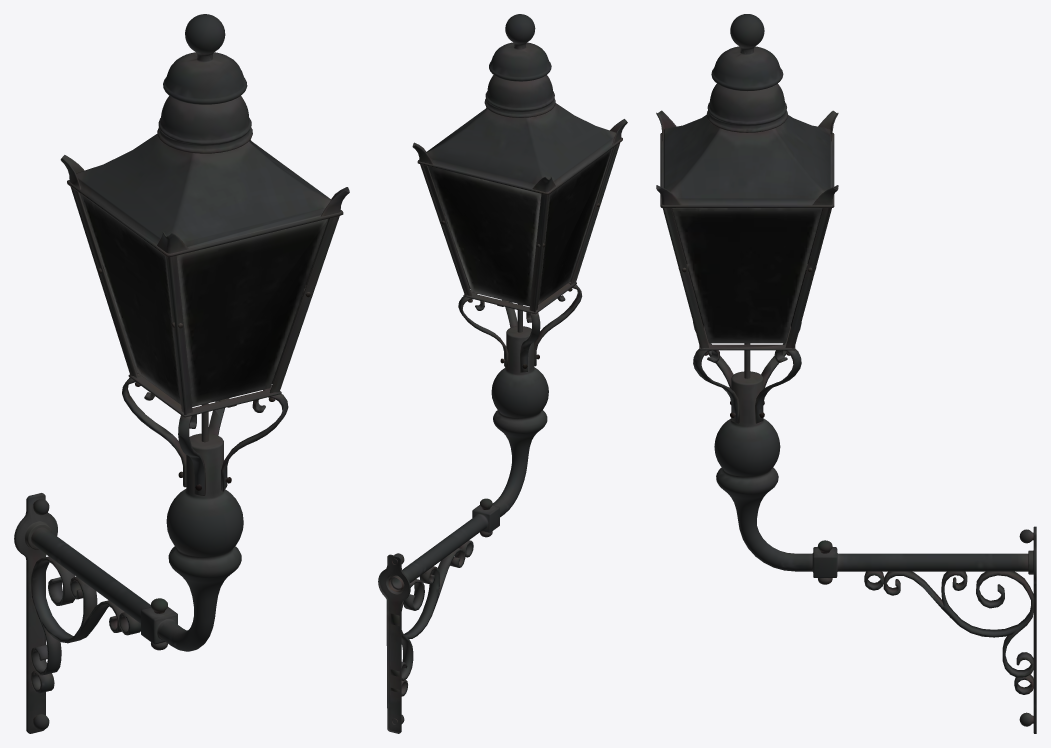
The model's file is wall_lantern.glb.
3 views of the same model, side by side, from view 1: azimuth 30°, elevation 25°; view 2: azimuth 150°, elevation 25°; view 3: azimuth 270°, elevation 25° (orthographic). The views are drawn at different scales.
Visible parts, largest first — view 1: street_lamp_02; view 2: street_lamp_02; view 3: street_lamp_02.
Part boxes in pixels (<box>): street_lamp_02: <box>14,14,349,733</box>; street_lamp_02: <box>378,14,627,733</box>; street_lamp_02: <box>656,14,1036,733</box>.
Bounding box in the file's own units: 0.3865 × 1.68 × 0.8067.
2 materials, 2 textured.
